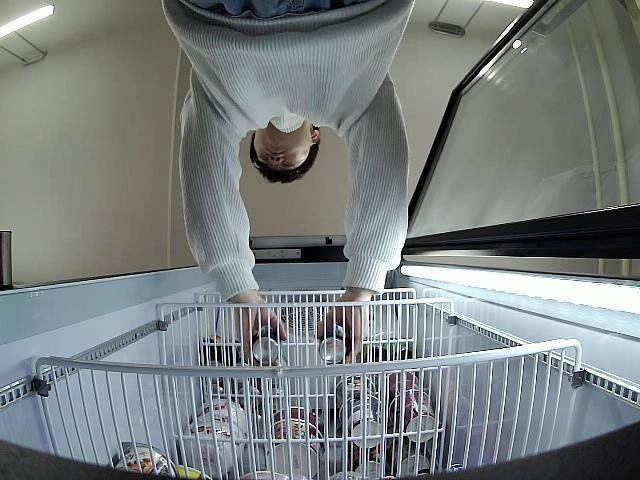16_hot6: (320, 324, 348, 362), (254, 323, 278, 362)
